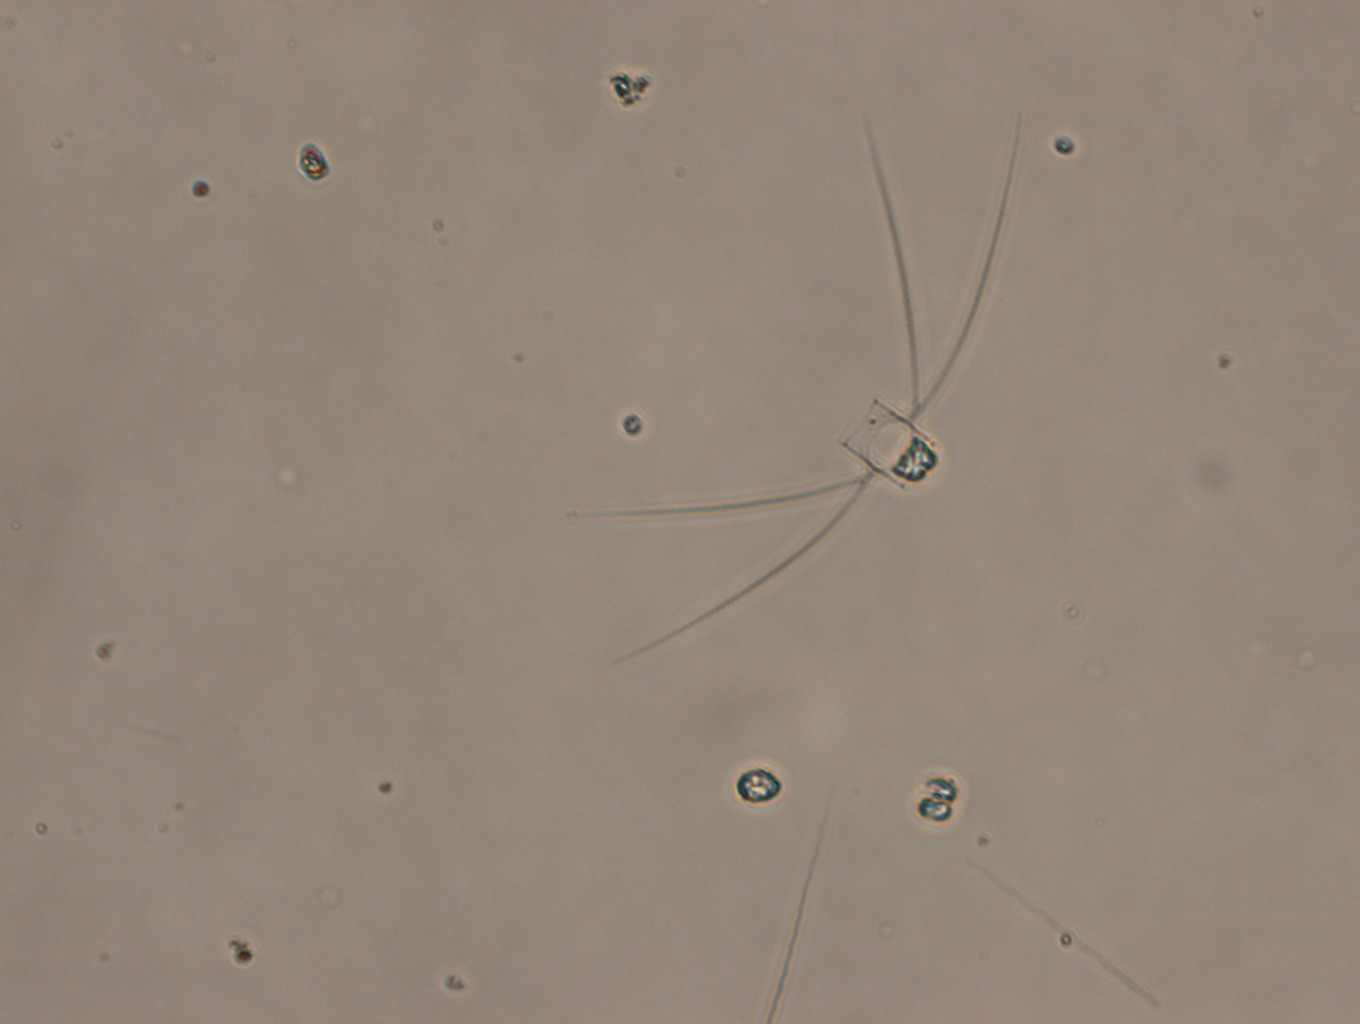chaetoceros: (569, 105, 1030, 668)
